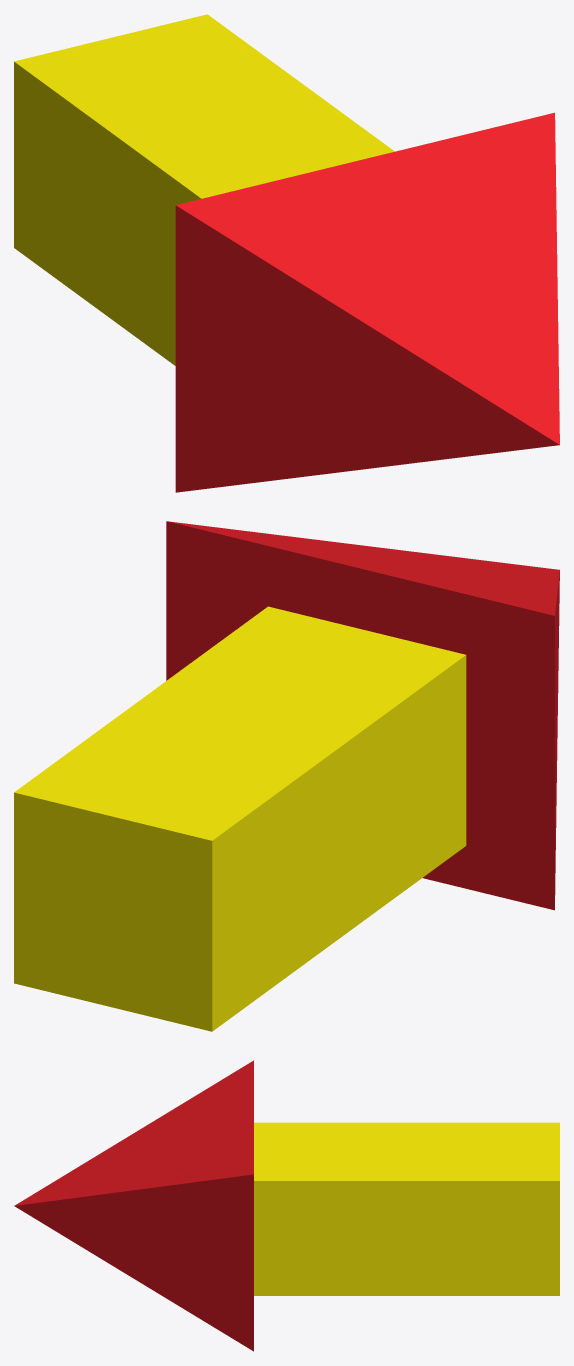
File: vectormodel.fbx
3 views of the same model, one above another, from view 1: azimuth 30°, elevation 25°; view 2: azimuth 150°, elevation 25°; view 3: azimuth 270°, elevation 25° (orthographic). The views are drawn at different scales.
Parts seen in each view (by area): view 1: Pyramid001, Box001; view 2: Box001, Pyramid001; view 3: Box001, Pyramid001.
Boxes of the visible parts, x1,y1,x2,y2 form: Pyramid001: (175,112,559,492); Box001: (14,14,394,365); Box001: (14,606,466,1031); Pyramid001: (166,521,559,910); Box001: (254,1122,559,1295); Pyramid001: (14,1060,253,1351).
Bounding box in the file's own units: 1.8 × 3.64 × 1.3.
2 materials, 2 textured.
